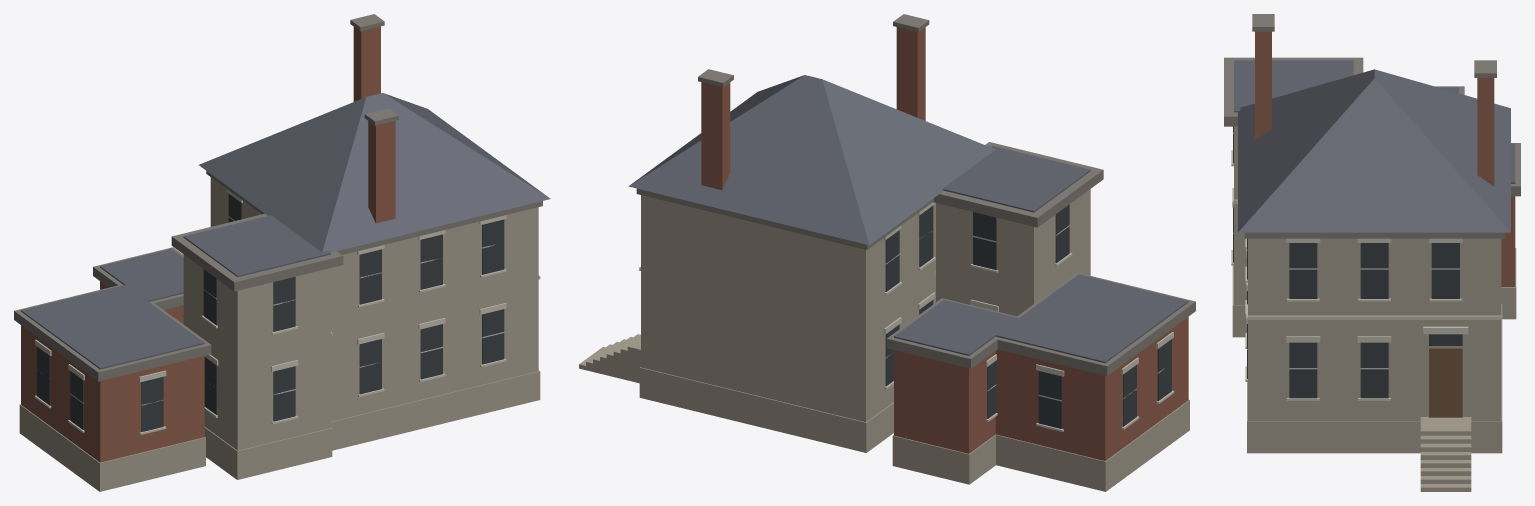
The model's file is house_2128_calumet__draft_1904.glb.
3 views of the same model, side by side, from view 1: azimuth 30°, elevation 25°; view 2: azimuth 150°, elevation 25°; view 3: azimuth 270°, elevation 25° (orthographic). The views are drawn at different scales.
Parts seen in each view (by area): view 1: house_2128_calumet__draft_1904; view 2: house_2128_calumet__draft_1904; view 3: house_2128_calumet__draft_1904.
Part boxes in pixels (x1=…): house_2128_calumet__draft_1904: x1=14, y1=14, x2=550, y2=491; house_2128_calumet__draft_1904: x1=579, y1=14, x2=1195, y2=491; house_2128_calumet__draft_1904: x1=1224, y1=14, x2=1520, y2=491.
Bounding box in the file's own units: 22.75 × 13.77 × 10.55.
